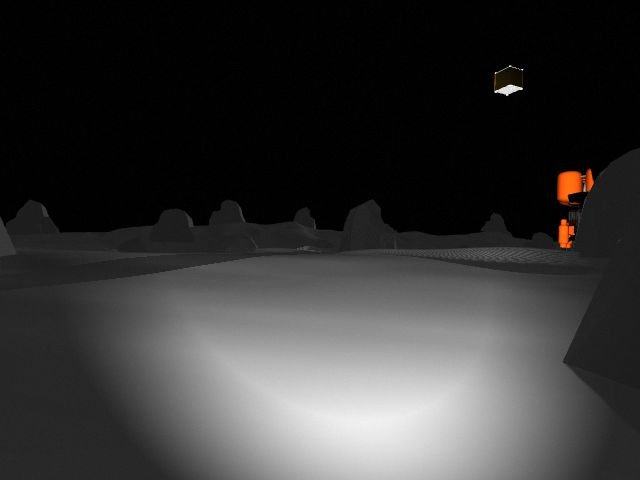cubesat: (484, 62, 529, 102)
